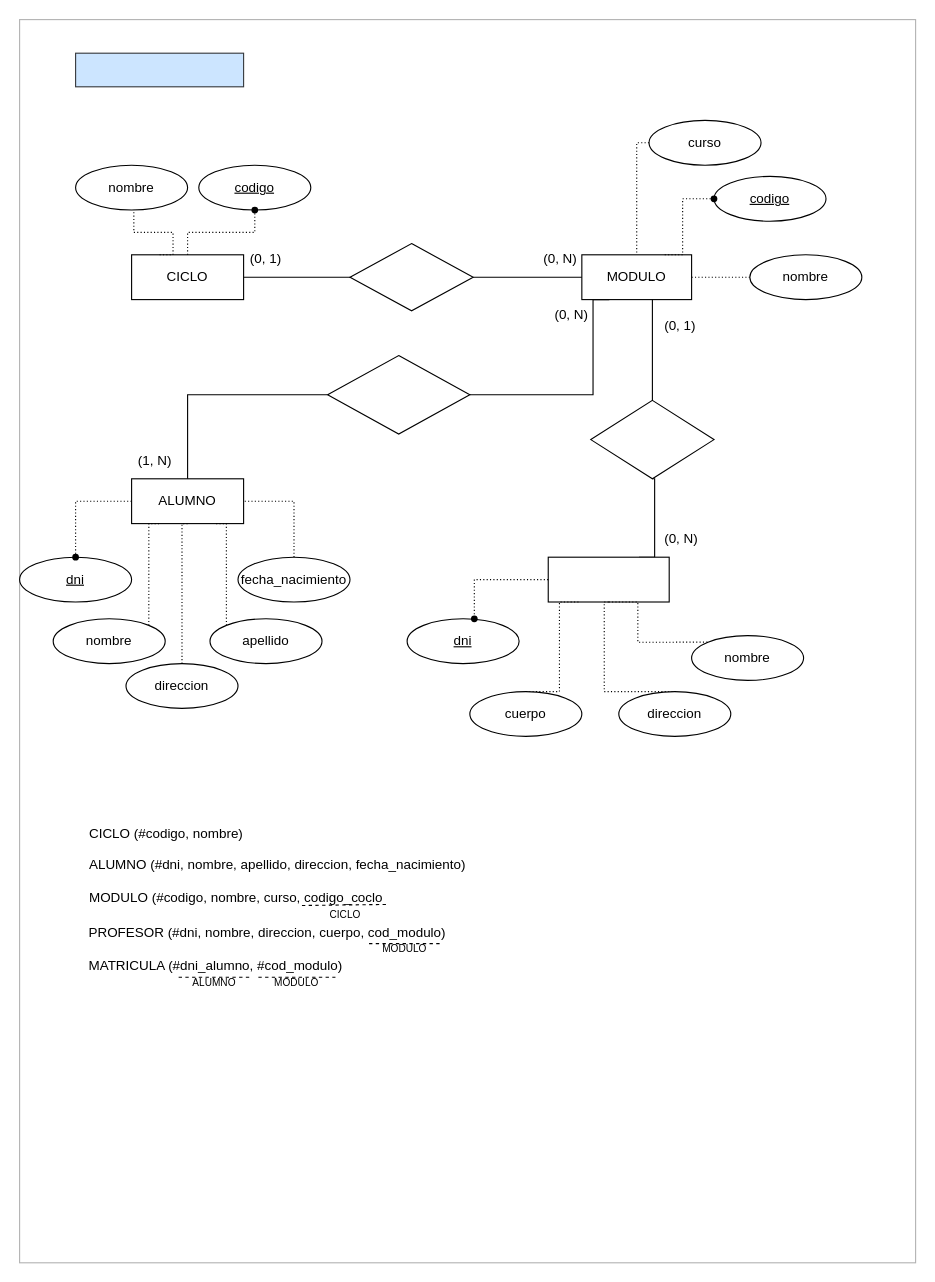
Image size: 935x1282. Some labels were removed from this diagram. Here are the shapes that lost their labels. From the top down, the centre of each, then its label:
At (159,69): "EJER. 9 - INSTITUTO".
At (411,276): "TIENE 1:N".
At (398,394): "MATRICULA N:N".
At (652,439): "IMPARTE N:1".
At (608,579): "PROFESOR".
